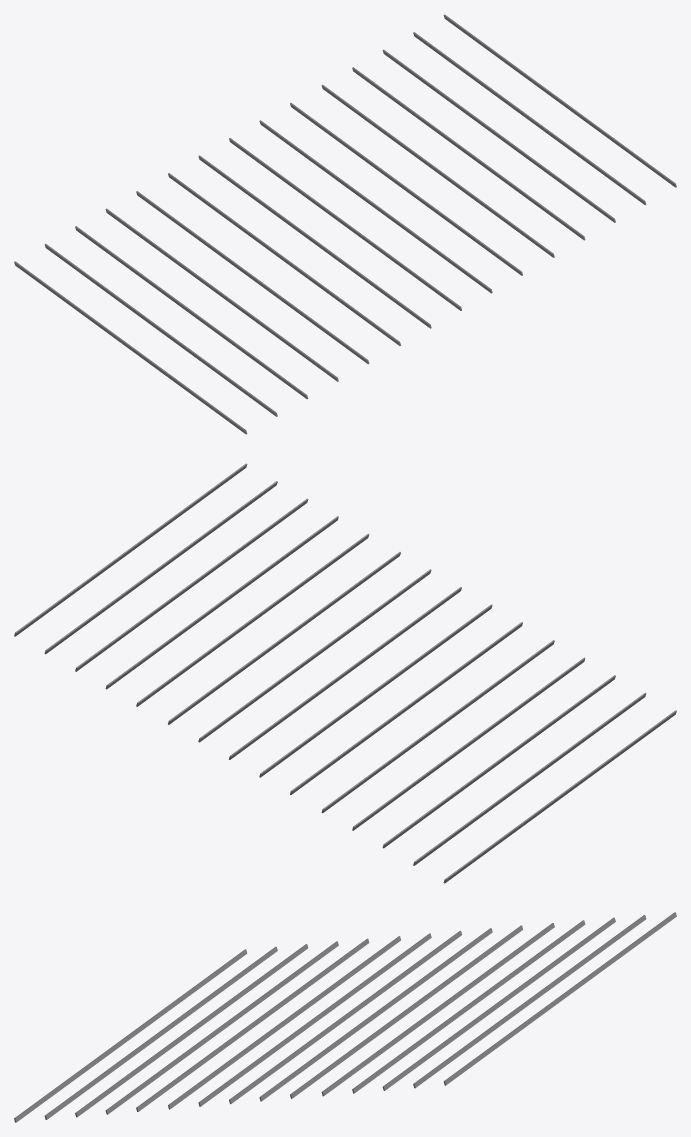
The model's file is purlin_new_1.gltf.
3 renders of one model, top to bottom at view 1: azimuth 30°, elevation 25°; view 2: azimuth 150°, elevation 25°; view 3: azimuth 330°, elevation 25°, orthographic.
Parts seen in each view (by area): view 1: 3DGeom-2, 3DGeom-1, 3DGeom-3, 3DGeom-9, 3DGeom-10, 3DGeom-12, 3DGeom-13, 3DGeom-14, 3DGeom-15, 3DGeom-16, 3DGeom-4, 3DGeom-5 (+3 smaller); view 2: 3DGeom-2, 3DGeom-1, 3DGeom-3, 3DGeom-4, 3DGeom-5, 3DGeom-10, 3DGeom-12, 3DGeom-14, 3DGeom-15, 3DGeom-16, 3DGeom-6, 3DGeom-7 (+3 smaller); view 3: 3DGeom-9, 3DGeom-14, 3DGeom-16, 3DGeom-3, 3DGeom-4, 3DGeom-6, 3DGeom-7, 3DGeom-15, 3DGeom-1, 3DGeom-2, 3DGeom-5, 3DGeom-8 (+3 smaller).
Boxes of the visible parts, x1,y1,x2,y2 form: 3DGeom-2: (44, 243, 277, 416); 3DGeom-1: (136, 191, 369, 364); 3DGeom-3: (14, 261, 247, 434); 3DGeom-9: (259, 120, 492, 293); 3DGeom-10: (198, 155, 431, 328); 3DGeom-12: (321, 84, 554, 257); 3DGeom-13: (382, 49, 615, 222); 3DGeom-14: (443, 14, 676, 187); 3DGeom-15: (413, 32, 646, 205); 3DGeom-16: (352, 67, 585, 240); 3DGeom-4: (105, 208, 338, 381); 3DGeom-5: (75, 226, 308, 399); 3DGeom-2: (413, 692, 646, 865); 3DGeom-1: (321, 640, 554, 813); 3DGeom-3: (443, 710, 676, 883); 3DGeom-4: (352, 657, 585, 830); 3DGeom-5: (382, 675, 615, 848); 3DGeom-10: (259, 604, 492, 777); 3DGeom-12: (136, 533, 369, 706); 3DGeom-14: (14, 463, 247, 636); 3DGeom-15: (44, 481, 277, 654); 3DGeom-16: (105, 516, 338, 689); 3DGeom-6: (290, 622, 522, 794); 3DGeom-7: (228, 587, 461, 759); 3DGeom-9: (259, 928, 492, 1101); 3DGeom-14: (443, 912, 676, 1085); 3DGeom-16: (352, 920, 585, 1093); 3DGeom-3: (14, 949, 247, 1122); 3DGeom-4: (105, 941, 338, 1114); 3DGeom-6: (168, 936, 400, 1109); 3DGeom-7: (229, 930, 461, 1104); 3DGeom-15: (413, 915, 646, 1088); 3DGeom-1: (136, 938, 369, 1111); 3DGeom-2: (44, 946, 277, 1119); 3DGeom-5: (75, 944, 308, 1117); 3DGeom-8: (290, 925, 522, 1098).
Size of the model in its own units: 32.92 by 10.65 by 30.48.
